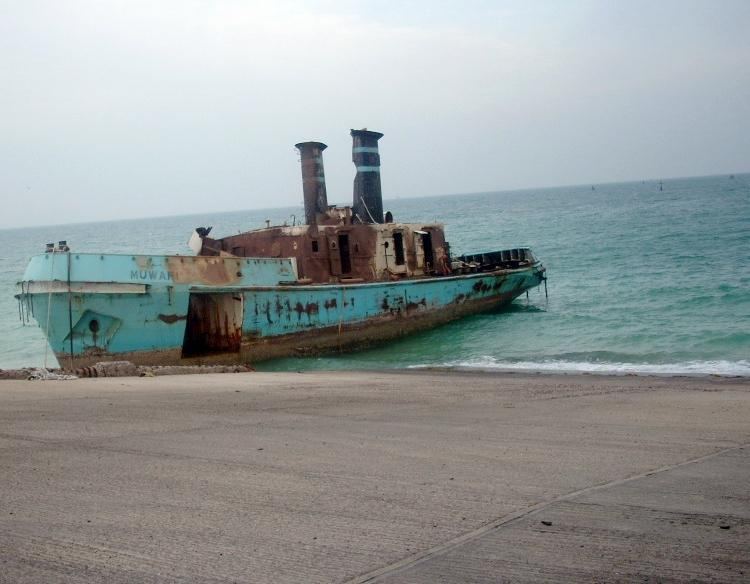rust: (224, 233, 383, 284), (179, 311, 400, 343), (350, 130, 392, 219), (293, 142, 337, 219)
